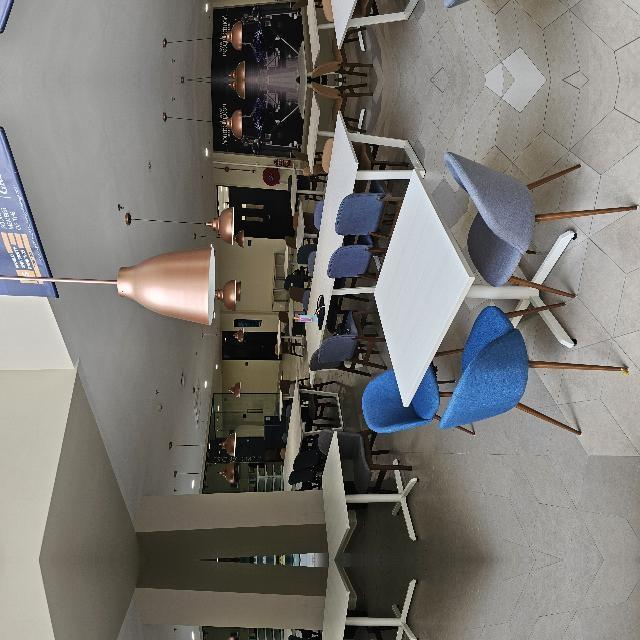obstacle: (116, 438, 401, 640), (116, 462, 401, 640), (183, 383, 444, 481), (9, 397, 131, 491), (9, 629, 131, 640), (183, 639, 444, 640)
